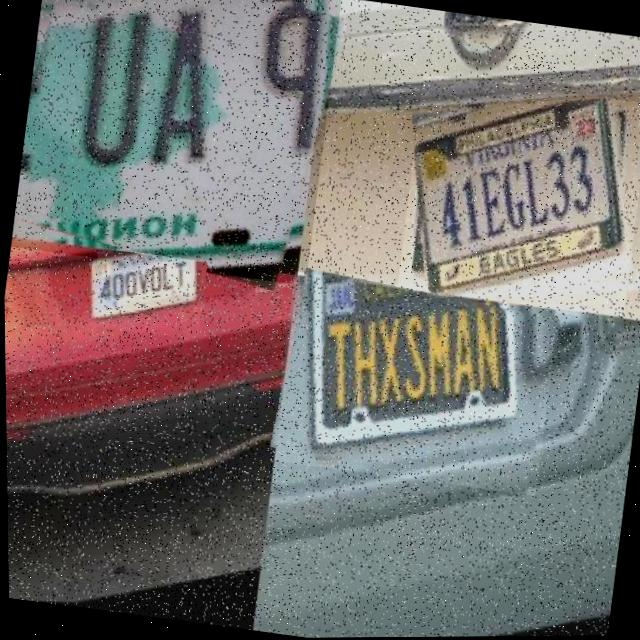LicensePlate: (7, 0, 345, 288), (268, 270, 560, 498), (415, 100, 631, 298), (96, 256, 201, 327)
